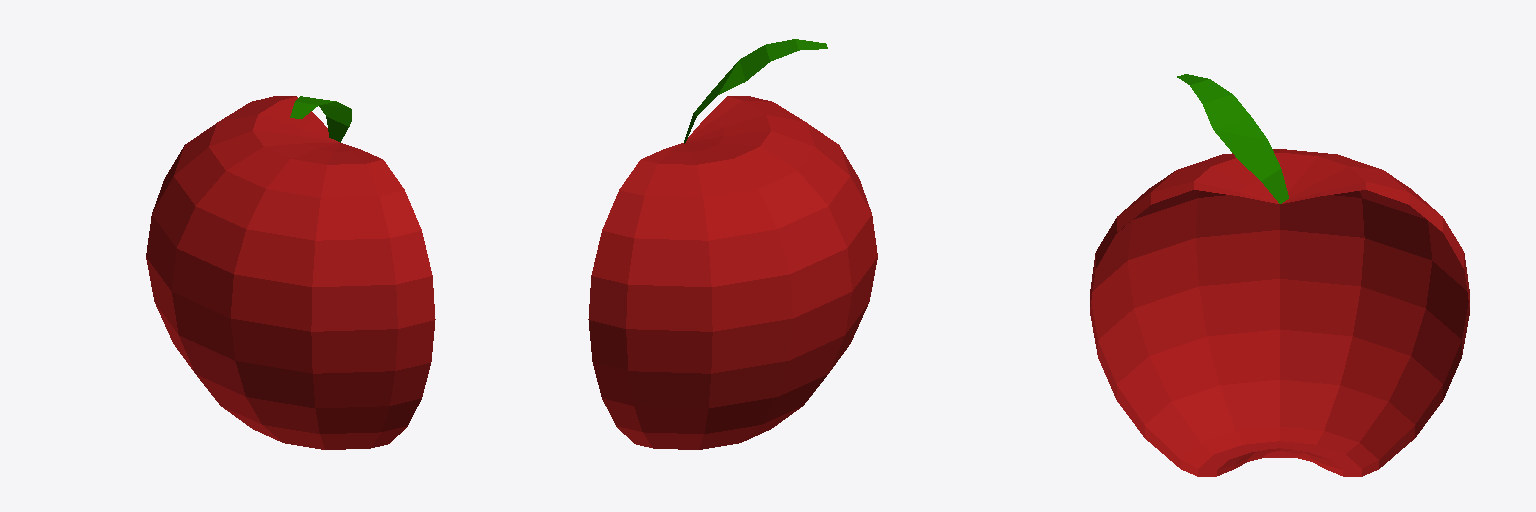
File: apples_ladoa.obj
3 views of the same model, side by side, from view 1: azimuth 30°, elevation 25°; view 2: azimuth 150°, elevation 25°; view 3: azimuth 270°, elevation 25° (orthographic).
Visible parts, largest first — view 1: Mesh2 apple_half1 apple2_1 _Apples1 Model, Mesh1 leaf apple2_1 _Apples1 Model; view 2: Mesh2 apple_half1 apple2_1 _Apples1 Model, Mesh1 leaf apple2_1 _Apples1 Model; view 3: Mesh2 apple_half1 apple2_1 _Apples1 Model, Mesh1 leaf apple2_1 _Apples1 Model.
Part boxes in pixels (x1,y1,x2,y2): Mesh2 apple_half1 apple2_1 _Apples1 Model: (146, 96, 435, 449); Mesh1 leaf apple2_1 _Apples1 Model: (290, 96, 351, 142); Mesh2 apple_half1 apple2_1 _Apples1 Model: (588, 96, 877, 449); Mesh1 leaf apple2_1 _Apples1 Model: (684, 39, 827, 143); Mesh2 apple_half1 apple2_1 _Apples1 Model: (1090, 149, 1469, 476); Mesh1 leaf apple2_1 _Apples1 Model: (1177, 74, 1288, 203).
Bounding box in the file's own units: 0.0354 × 0.0719 × 0.0691.